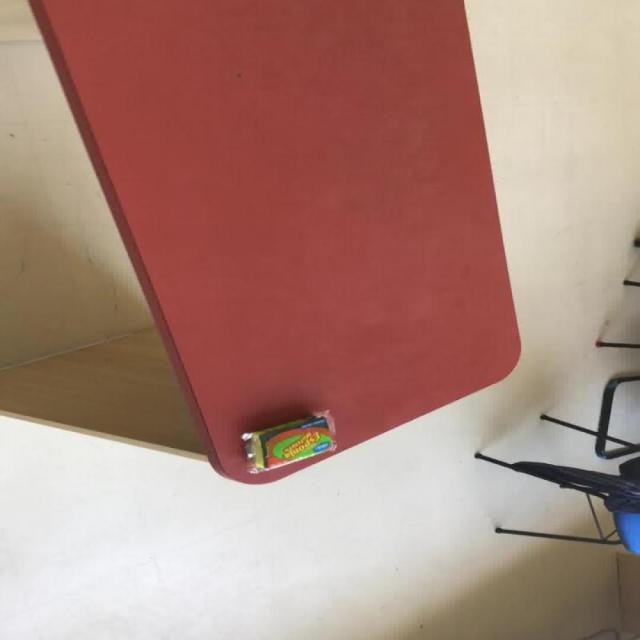Sponge: (239, 408, 337, 472)
